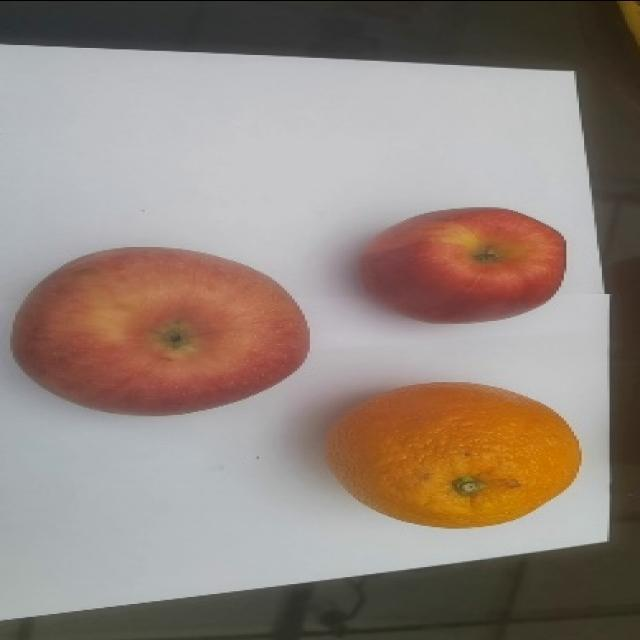Apple: (9, 245, 310, 416), (358, 206, 566, 324)
Orange: (324, 380, 581, 529)
